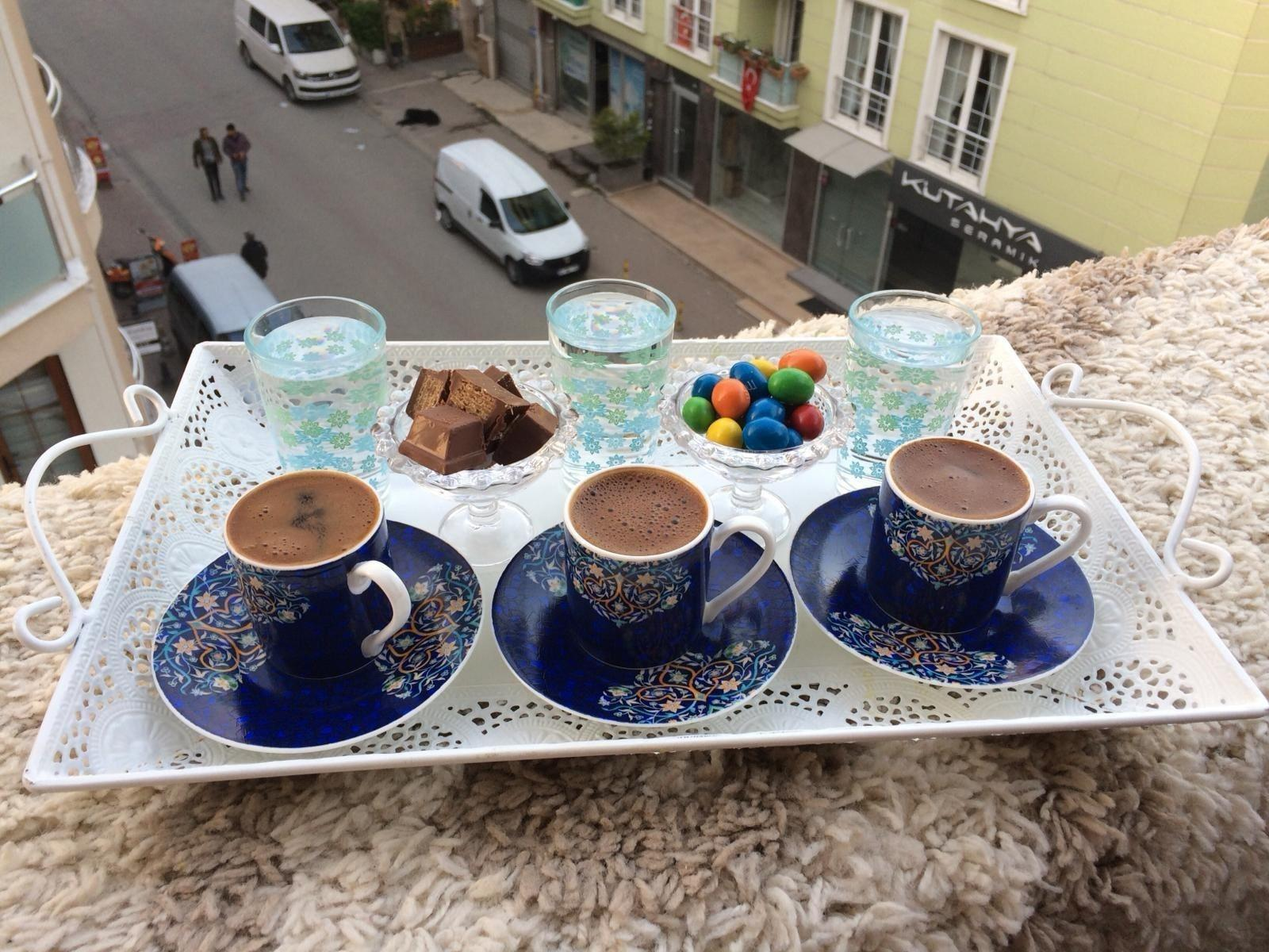cup-handle: (861, 434, 1094, 635), (558, 461, 777, 671), (220, 467, 416, 685)
glass-normal: (240, 294, 398, 479), (838, 287, 984, 477), (542, 278, 678, 463)
